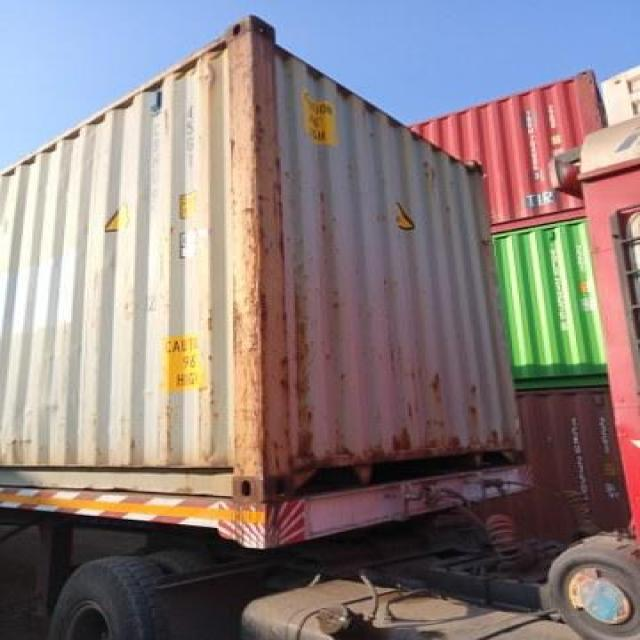Rust: (253, 96, 287, 505), (320, 433, 364, 474), (383, 436, 433, 460), (488, 428, 515, 459), (436, 381, 452, 406)
